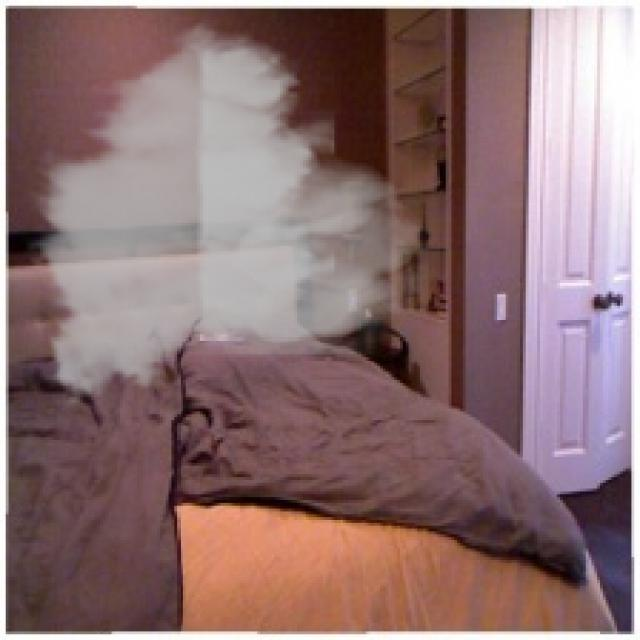smoke: (23, 12, 428, 417)
